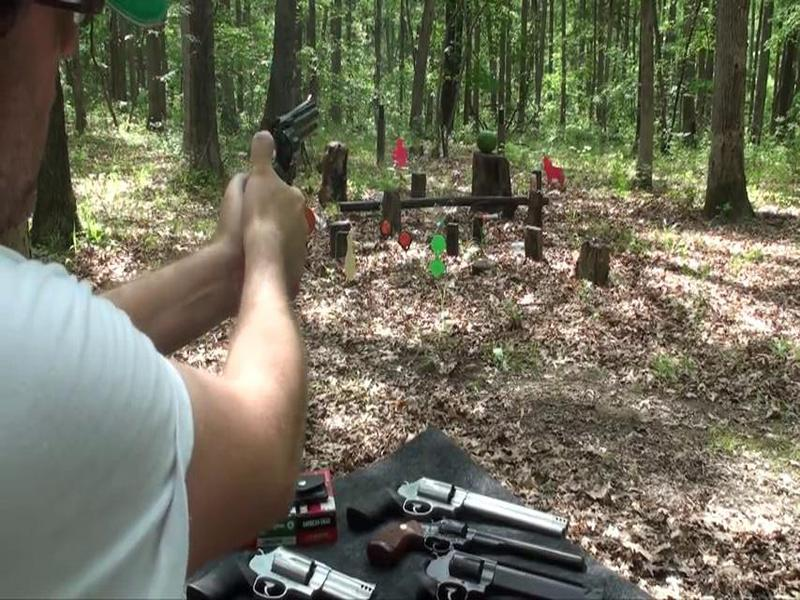Revolver: (236, 89, 333, 215)
